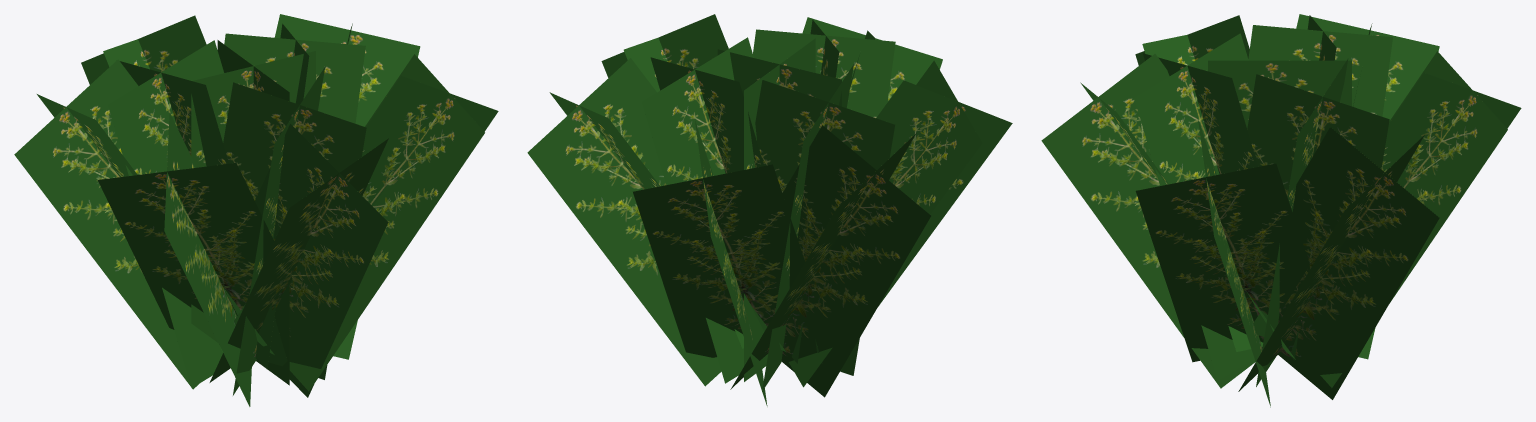
The model's file is bush10.FBX.
3 views of the same model, side by side, from view 1: azimuth 30°, elevation 25°; view 2: azimuth 150°, elevation 25°; view 3: azimuth 270°, elevation 25° (orthographic).
Parts seen in each view (by area): view 1: bush10; view 2: bush10; view 3: bush10.
Boxes of the visible parts, x1,y1,x2,y2 form: bush10: [14, 14, 498, 406]; bush10: [527, 14, 1012, 406]; bush10: [1041, 14, 1521, 407].
Size of the model in its own units: 5.18 by 3.93 by 5.28.
